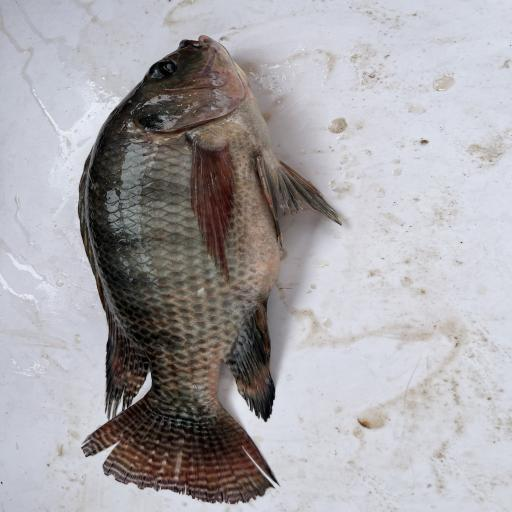Tilapia: (77, 35, 343, 505)
